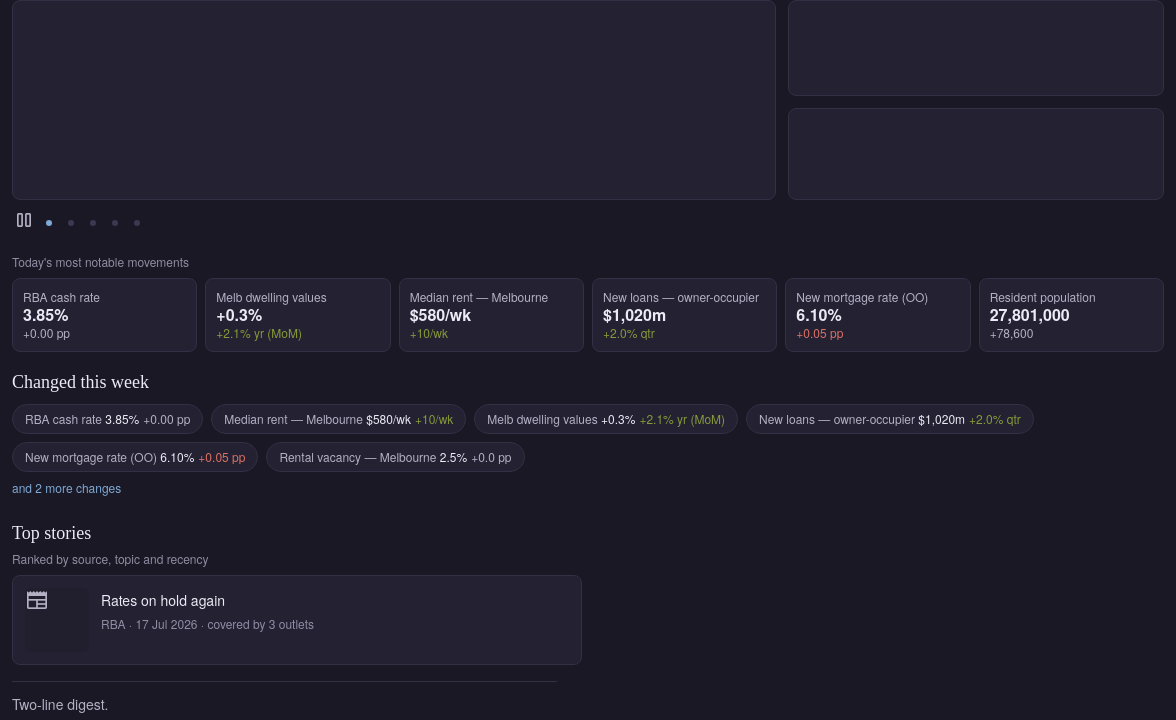
Test: headline conveyor › the pause control stops auto-advance and flips to a resume control
The width and height of the screenshot is (1176, 720).
Click the button named "Pause rotating findings": (24, 223) [12, 208, 36, 238]
Wait 15000 ms
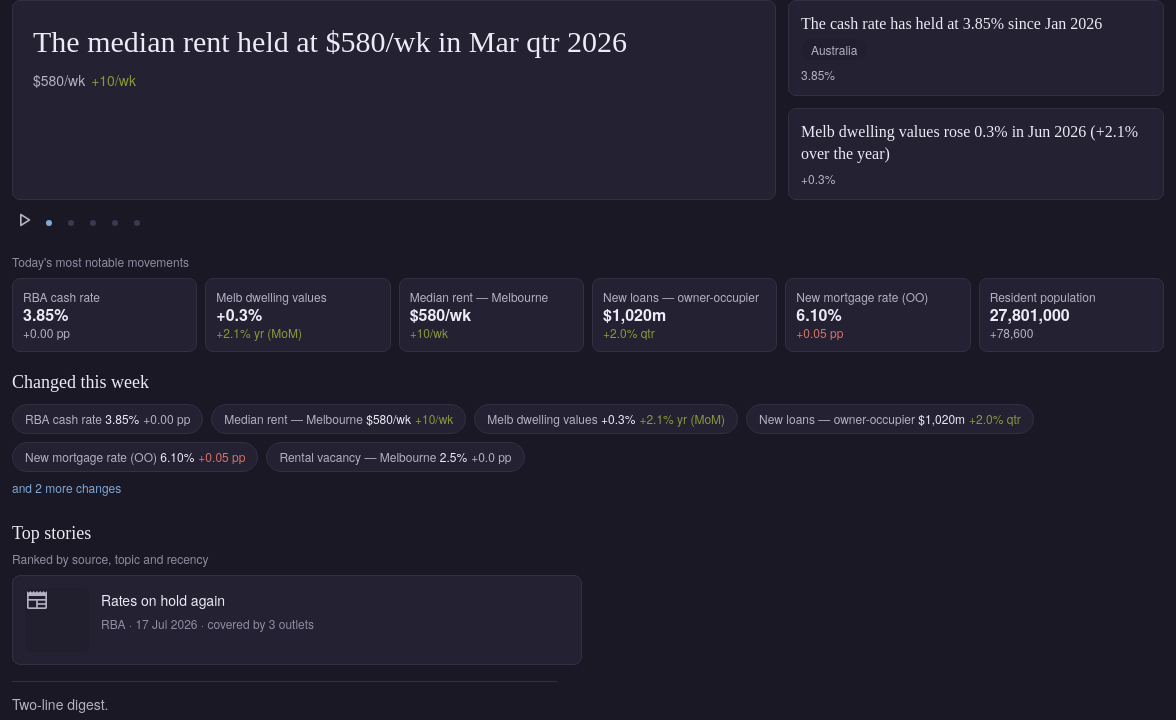
Expected: the heading with test id "lead-finding" shows "median rent", [33, 25, 627, 58]
Expected: the button named "Resume rotating findings" is shown, [12, 208, 36, 238]
